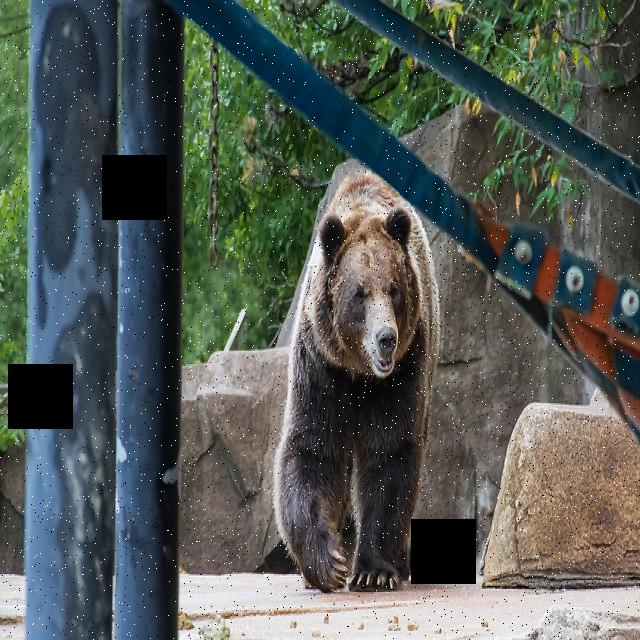Bear: (280, 133, 440, 609)
